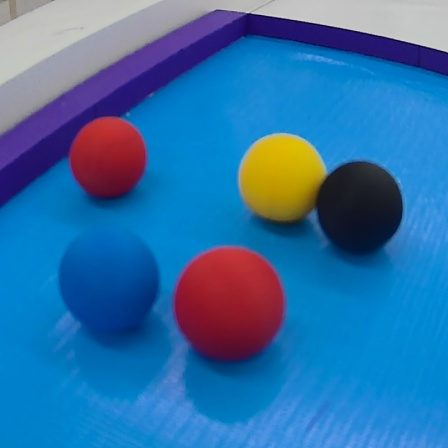blue: (54, 229, 161, 334)
blue_aim: (3, 9, 448, 448)
red: (169, 247, 294, 363), (67, 114, 156, 207)
yellow: (235, 128, 328, 232)
